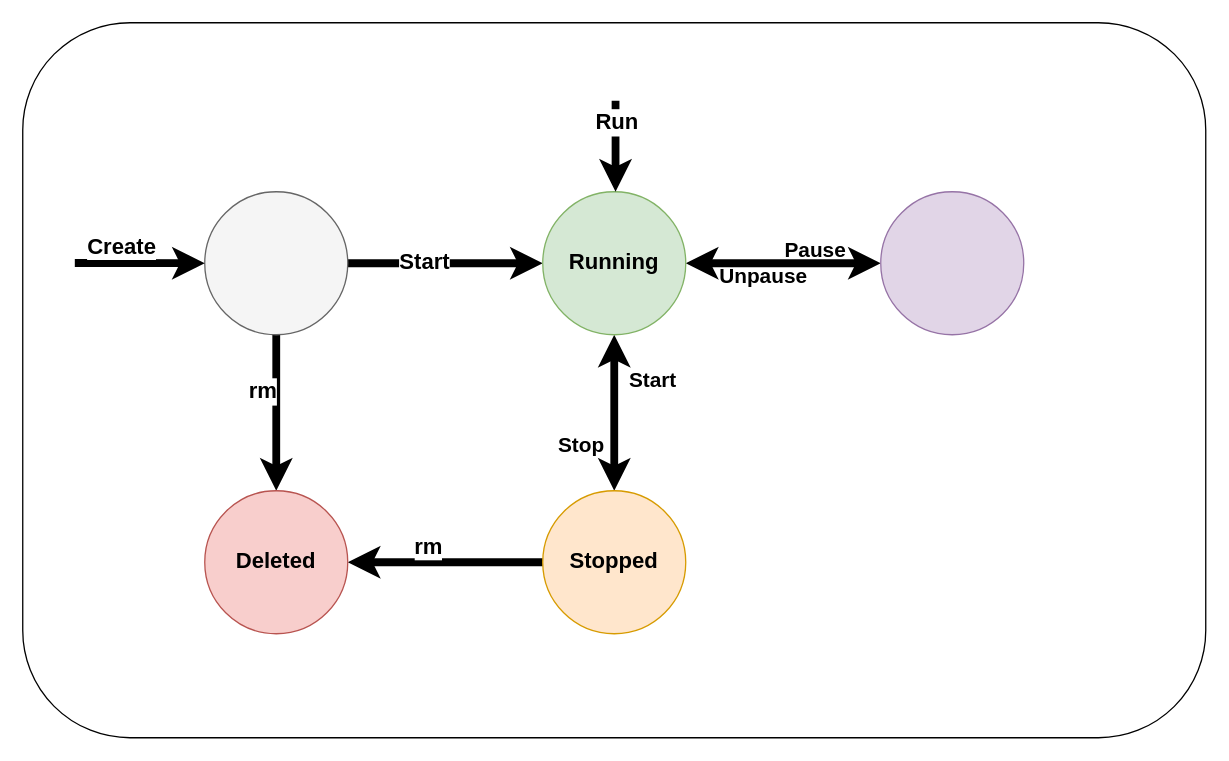
Image size: 1229x761. Some labels were removed from this diagram. Each missing label, with the centre of its shape:
"Created" belongs at pixel 275 262.
"Paused" belongs at pixel 951 262.
